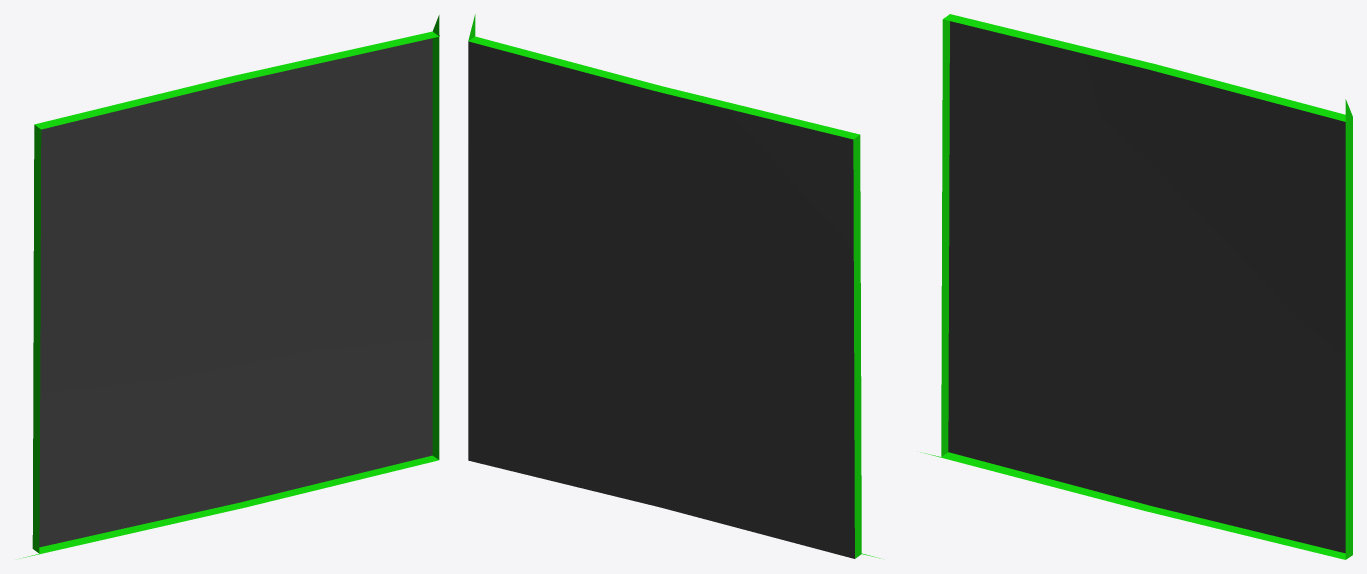
Rendered from B_ordre 3.fbx.
The picture shows the model from 3 angles, left to right: view 1: azimuth 30°, elevation 25°; view 2: azimuth 150°, elevation 25°; view 3: azimuth 330°, elevation 25°; orthographic projection. The views are drawn at different scales.
Visible parts, largest first — view 1: Ordre 3; view 2: Ordre 3; view 3: Ordre 3.
Boxes of the visible parts, bbox=[...] form: Ordre 3: bbox=[19, 15, 439, 558]; Ordre 3: bbox=[468, 14, 880, 558]; Ordre 3: bbox=[920, 14, 1352, 559].
Bounding box in the file's own units: 13.97 × 14.17 × 0.649.
